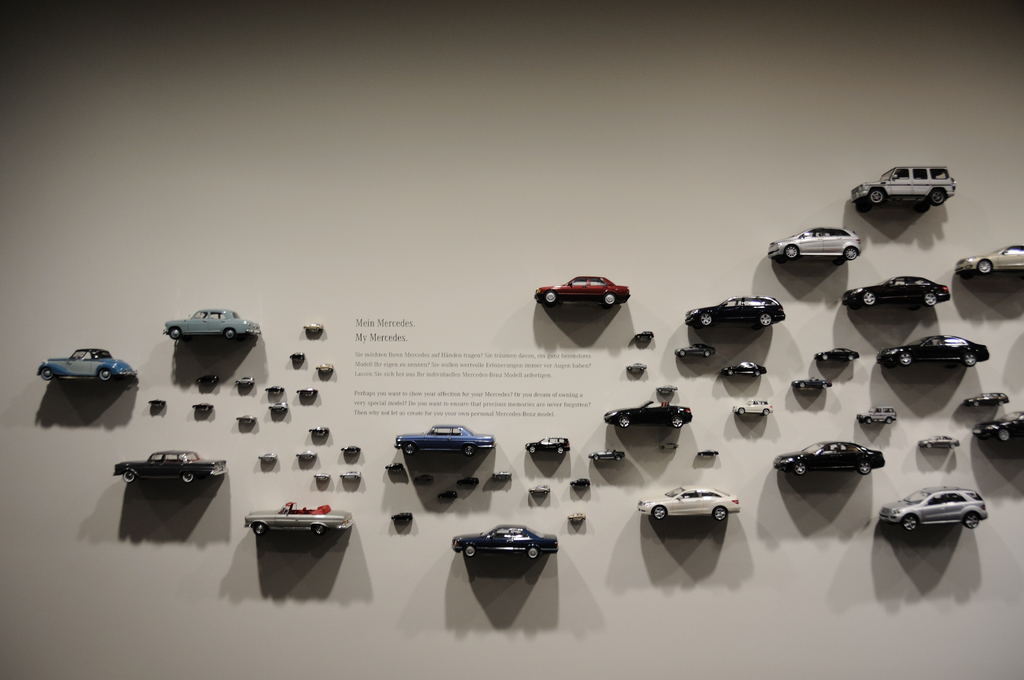Car: (873, 481, 988, 530), (113, 448, 230, 485), (840, 274, 949, 312), (451, 521, 558, 559), (772, 440, 886, 474), (683, 294, 788, 330), (876, 334, 988, 366), (245, 501, 356, 533), (638, 485, 741, 519), (531, 272, 631, 307), (766, 223, 863, 259), (39, 347, 138, 382), (396, 424, 498, 457), (162, 307, 262, 340), (603, 398, 691, 430), (954, 242, 1023, 279), (976, 408, 1023, 442), (855, 405, 897, 425), (718, 360, 767, 377), (526, 436, 567, 455), (732, 396, 772, 415), (965, 393, 1009, 408), (918, 436, 960, 449), (587, 448, 625, 461), (675, 342, 713, 355), (794, 375, 831, 388), (524, 482, 551, 493), (295, 450, 318, 461), (568, 510, 588, 522), (266, 400, 287, 411), (234, 414, 254, 425), (336, 469, 360, 478), (659, 442, 680, 452), (257, 450, 276, 461), (304, 320, 323, 331), (633, 331, 656, 340), (437, 490, 456, 500), (309, 426, 330, 435), (295, 388, 318, 396), (695, 448, 718, 456), (314, 362, 332, 372), (456, 477, 478, 485), (625, 362, 647, 370), (494, 469, 513, 478), (263, 384, 284, 392), (656, 384, 677, 392), (570, 477, 588, 486), (412, 472, 431, 480), (196, 375, 217, 382), (147, 398, 165, 406), (289, 350, 304, 359), (393, 512, 412, 519), (193, 400, 211, 407), (341, 446, 361, 452), (236, 377, 252, 384), (313, 473, 328, 480), (385, 464, 402, 468)
